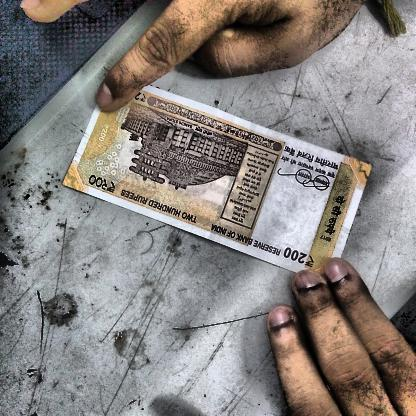Rs200: (280, 244, 320, 271)
